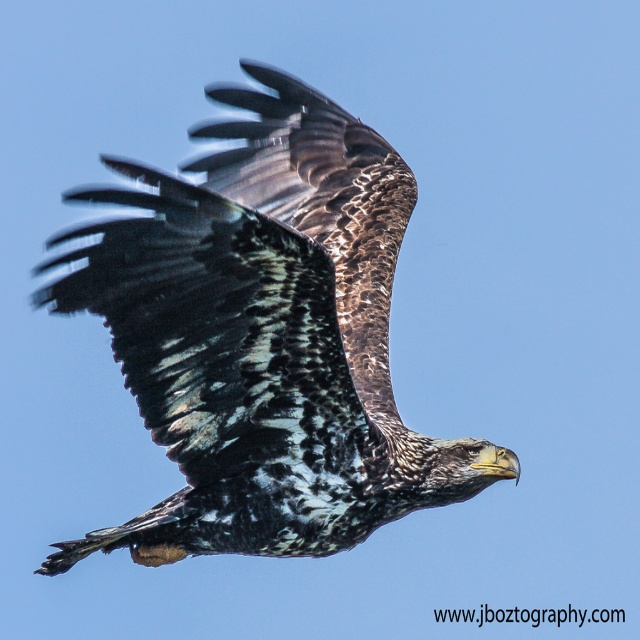Eagle: (31, 54, 522, 587)
